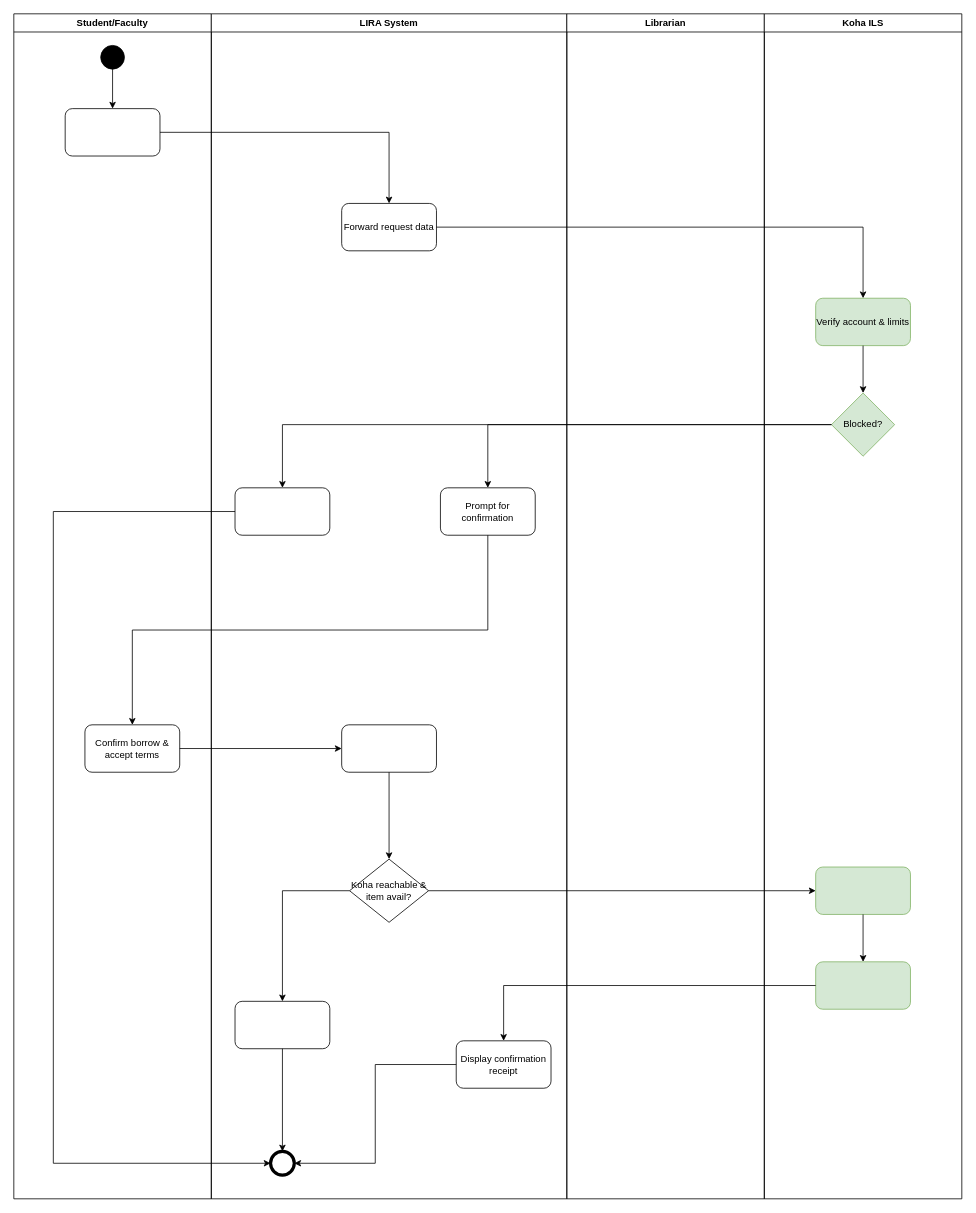
The diagram is 976 pixels wide and 1213 high, and some of its shapes have lost their labels. Here are the shapes that lost their labels. From the top down, the box of each, then its label:
(64, 108, 160, 156): Submit borrow request
(234, 487, 330, 535): Deny request & show warning
(341, 724, 436, 772): Transmit transaction data
(815, 866, 910, 914): Execute Create Checkout (CRUD)
(815, 961, 910, 1009): Execute Update Item Status (CRUD)
(234, 1001, 330, 1049): Queue locally / notify user
